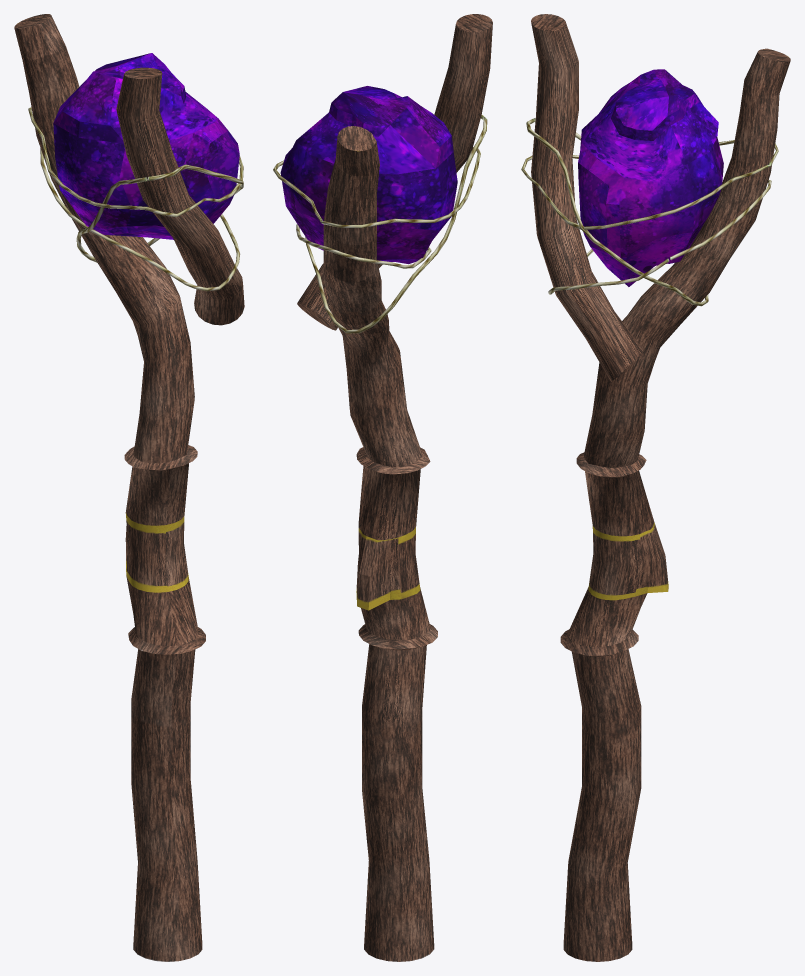
File: staff.FBX
3 views of the same model, side by side, from view 1: azimuth 30°, elevation 25°; view 2: azimuth 150°, elevation 25°; view 3: azimuth 270°, elevation 25° (orthographic).
Visible parts, largest first — view 1: StaffBranch1, Gem, StaffBranch2, Rope2, Rope1, Rope3; view 2: StaffBranch1, Gem, StaffBranch2, Rope3, Rope1, Rope2; view 3: StaffBranch1, Gem, StaffBranch2, Rope1, Rope3, Rope2.
Part boxes in pixels (x1,y1,x2,y2): StaffBranch1: (14, 14, 205, 961); Gem: (53, 53, 239, 239); StaffBranch2: (116, 67, 244, 325); Rope2: (40, 148, 240, 291); Rope1: (28, 107, 243, 217); Rope3: (76, 164, 243, 262); StaffBranch1: (323, 126, 437, 961); Gem: (280, 86, 457, 264); StaffBranch2: (297, 14, 492, 330); Rope3: (305, 114, 487, 333); Rope1: (273, 147, 480, 227); Rope2: (296, 224, 431, 268); StaffBranch1: (560, 48, 790, 961); Gem: (578, 69, 723, 286); StaffBranch2: (531, 14, 643, 381); Rope1: (521, 140, 778, 229); Rope3: (526, 118, 708, 306); Rope2: (548, 180, 771, 294).
Size of the model in its own units: 15.23 by 79.42 by 21.5.
4 materials, 4 textured.
